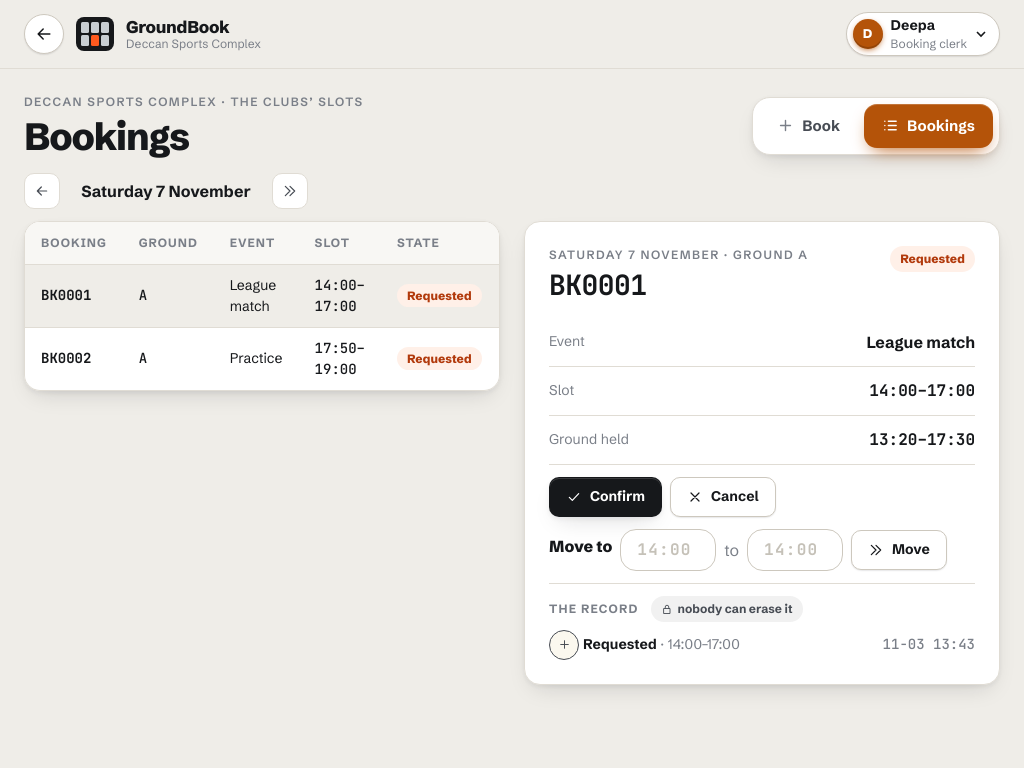
Test: F-09 · Moving a booking › moving BK0001 to 15:00–18:00 clashes with BK0002 held 17:30–19:20, and BK0001 stays at 14:00–17:00
The image size is (1024, 768).
Check: the table is shown, box [25,222,500,390]
Type "15:00" into the field named "Move from" at (668, 550), box [621,530,715,570]
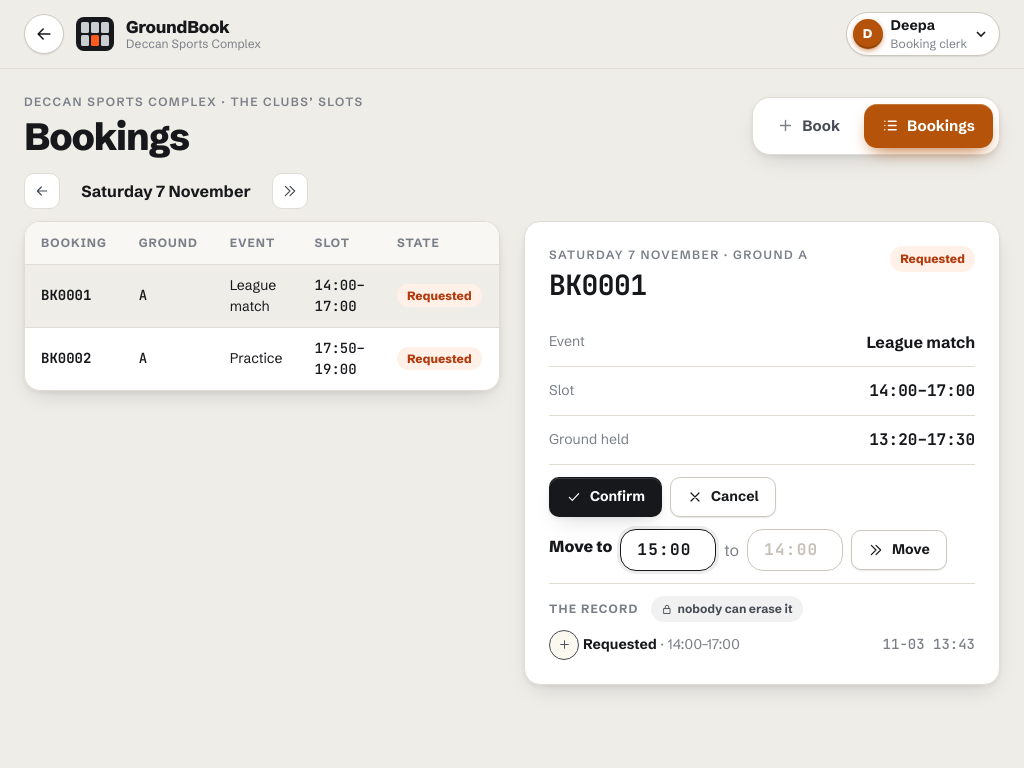
Type "18:00" into the field named "Move to" at (795, 550), box [748,530,842,570]
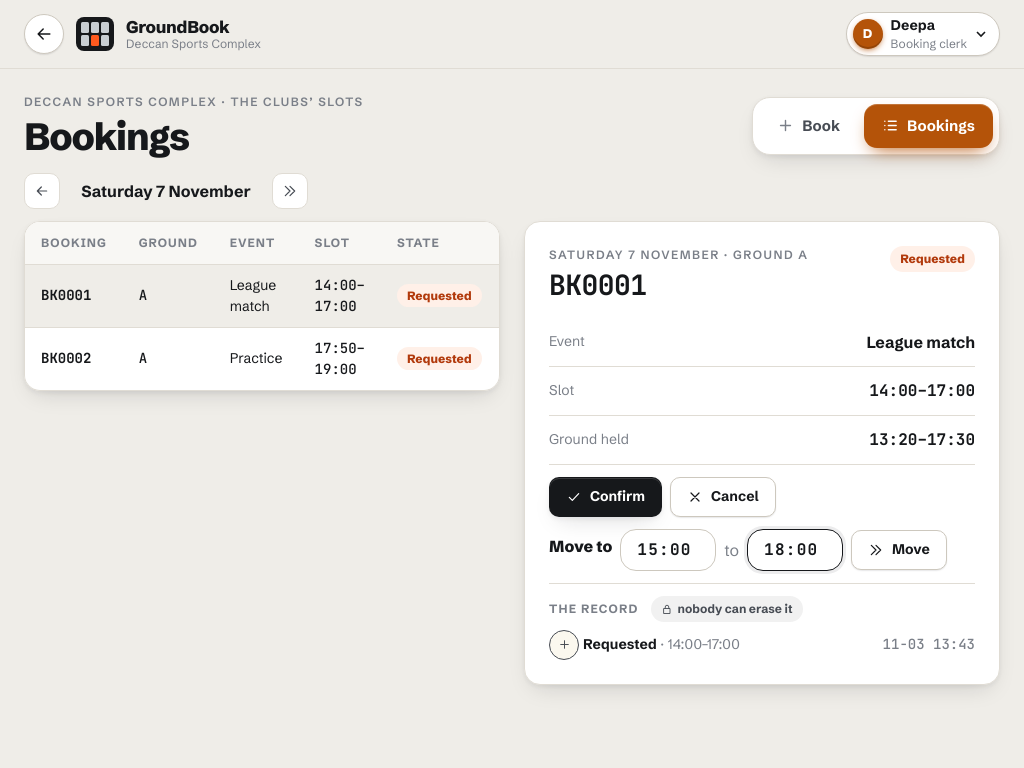
Click the button "Move" at (899, 550), box [851,530,947,570]
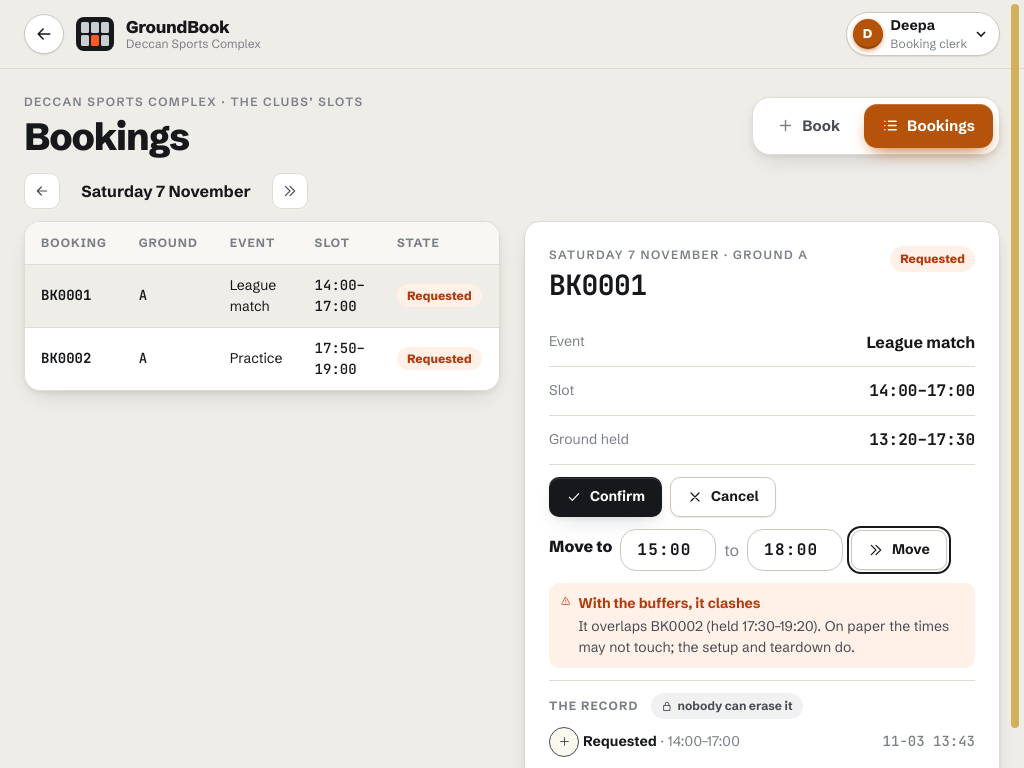
Check: the text "With the buffers, it clashes" is shown, box [578,594,760,612]
Check: the text "It overlaps BK0002 (held 17:30–19:20). On paper the times may not touch; the setup and teardown do." is shown, box [578,617,949,656]
